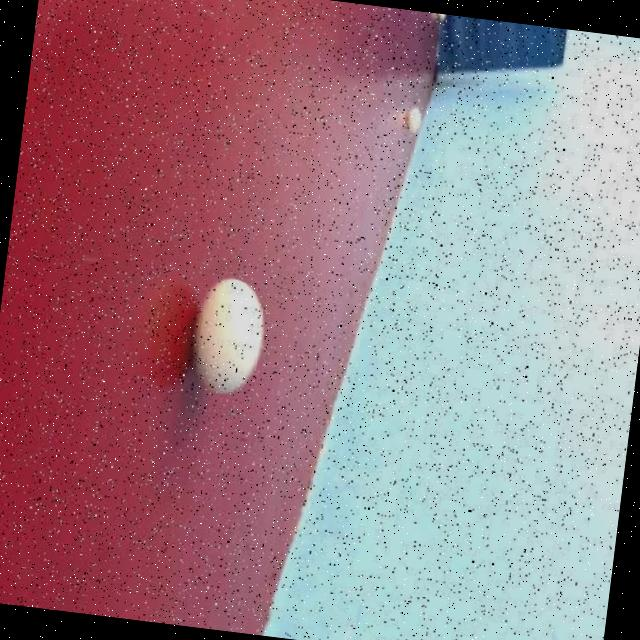ping-pong-ball: (172, 250, 278, 413), (392, 99, 428, 148), (418, 10, 454, 34)
